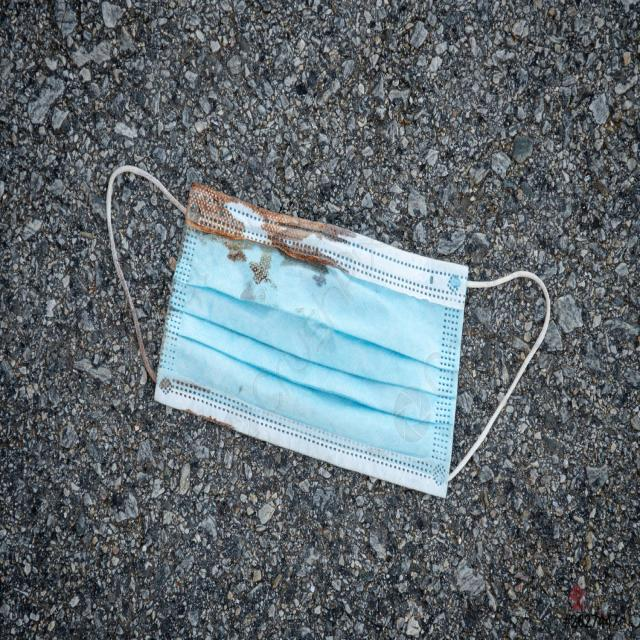non-organic waste: (108, 178, 560, 497)
